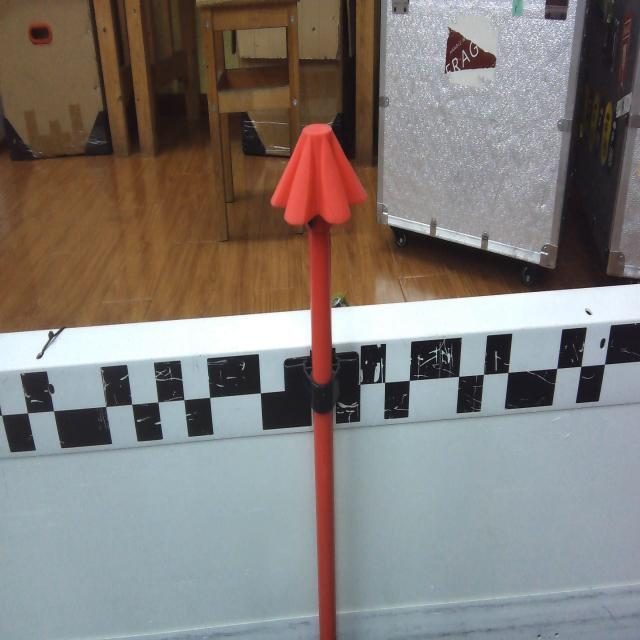zred-Stake-Head: (270, 124, 368, 225)
